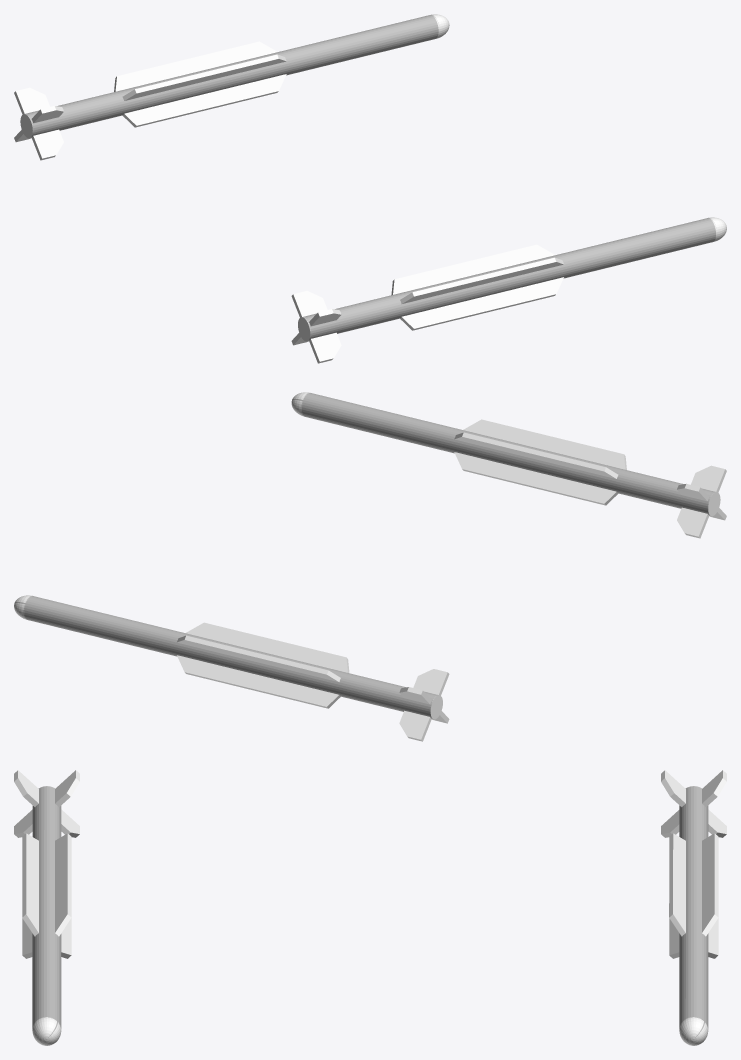
The model's file is aam5lf15j23.glb.
The picture shows the model from 3 angles, top to bottom: view 1: azimuth 30°, elevation 25°; view 2: azimuth 150°, elevation 25°; view 3: azimuth 270°, elevation 25°; orthographic projection. The views are drawn at different scales.
Visible parts, largest first — view 1: 円柱.003, 円柱.010; view 2: 円柱.010, 円柱.003; view 3: 円柱.003, 円柱.010.
Boxes of the visible parts, x1=… form: 円柱.003: x1=14, y1=14, x2=449, y2=160; 円柱.010: x1=291, y1=217, x2=726, y2=363; 円柱.010: x1=291, y1=392, x2=726, y2=538; 円柱.003: x1=14, y1=595, x2=449, y2=741; 円柱.003: x1=661, y1=770, x2=726, y2=1045; 円柱.010: x1=14, y1=770, x2=79, y2=1045.
Size of the model in its own units: 4 by 0.4662 by 5.03.
Materials: 3 (1 with a texture image).
